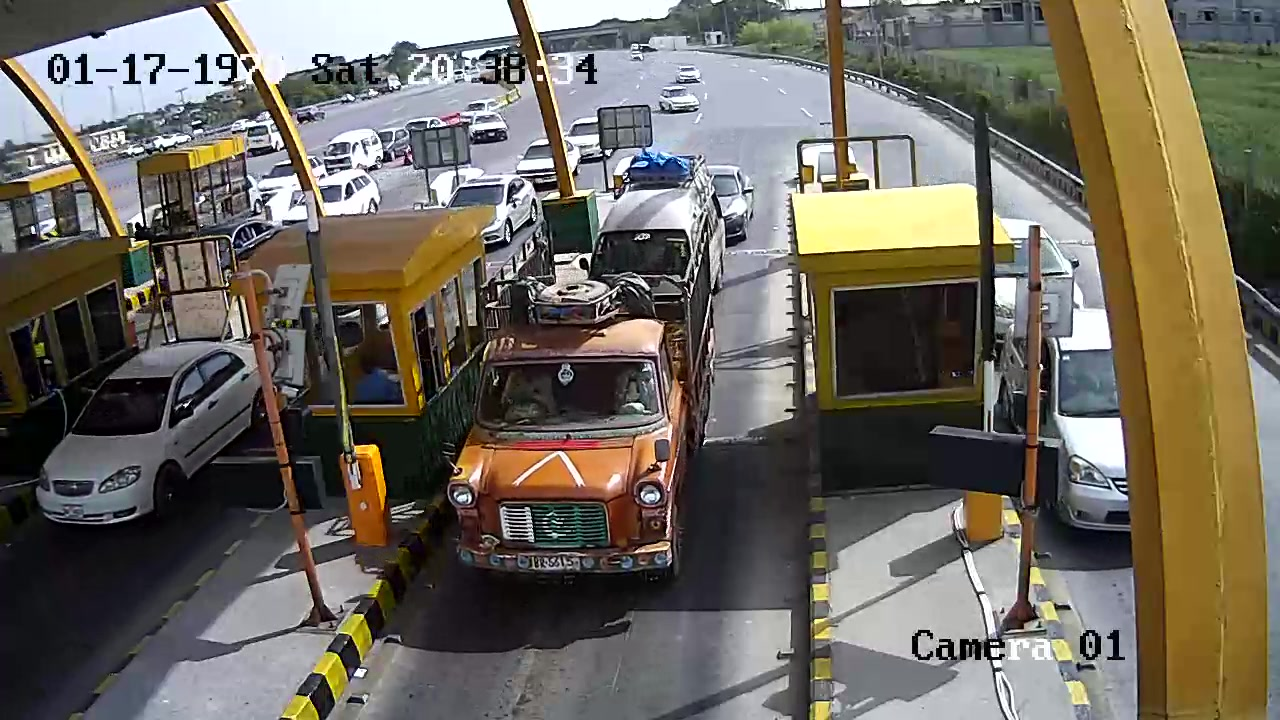F3: (428, 222, 720, 627)
